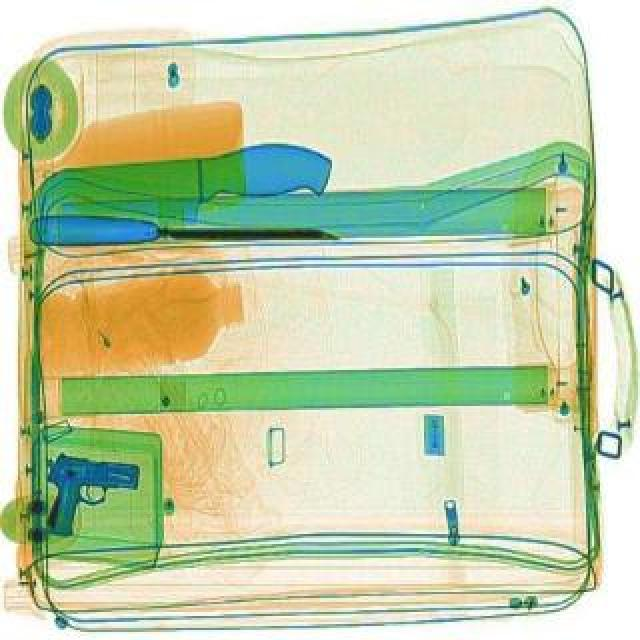gun: (38, 452, 142, 542)
knife: (26, 138, 334, 234), (28, 212, 336, 252)
